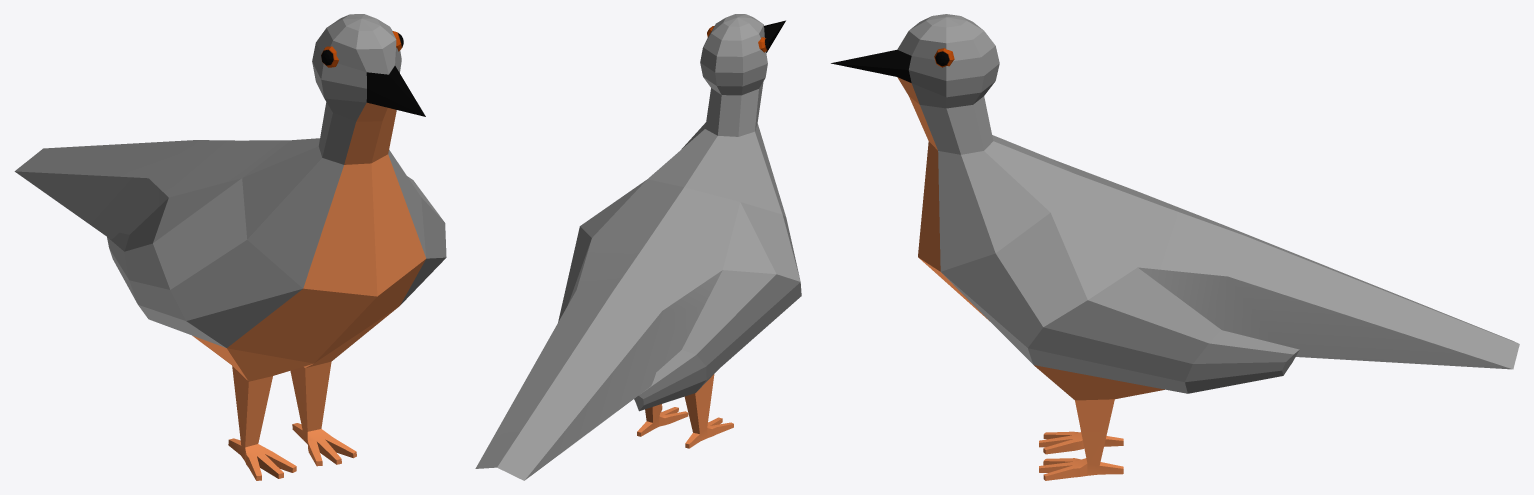
File: passengerPigeon.gltf
3 views of the same model, side by side, from view 1: azimuth 30°, elevation 25°; view 2: azimuth 150°, elevation 25°; view 3: azimuth 270°, elevation 25° (orthographic). The views are drawn at different scales.
Parts seen in each view (by area): view 1: pigeon; view 2: pigeon; view 3: pigeon.
Part boxes in pixels (x1,y1,x2,y2): pigeon: [14, 14, 446, 480]; pigeon: [475, 14, 801, 480]; pigeon: [831, 14, 1519, 480].
Bounding box in the file's own units: 0.5381 × 0.9171 × 1.3.
1 material, 1 textured.
